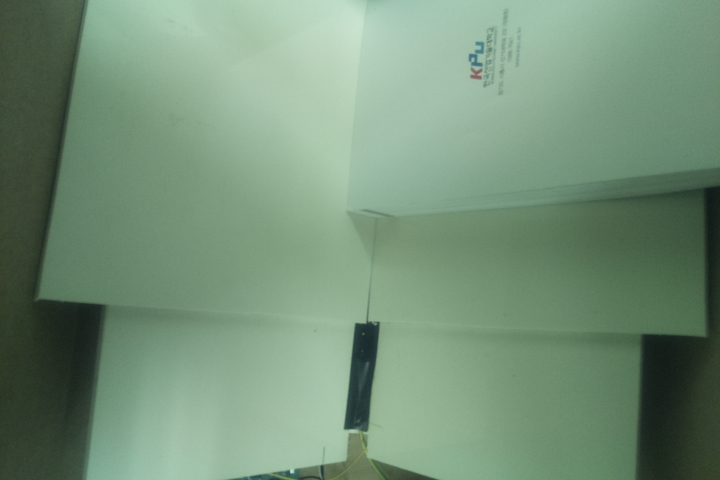book: (344, 1, 720, 224)
